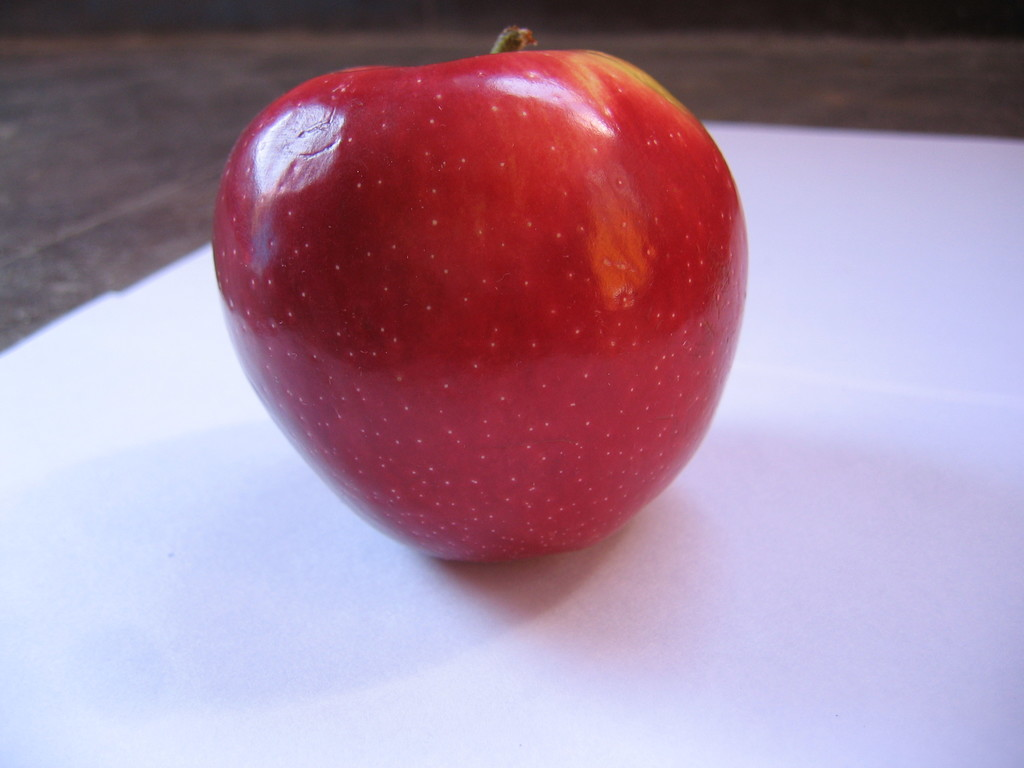Apple: (197, 17, 746, 562)
